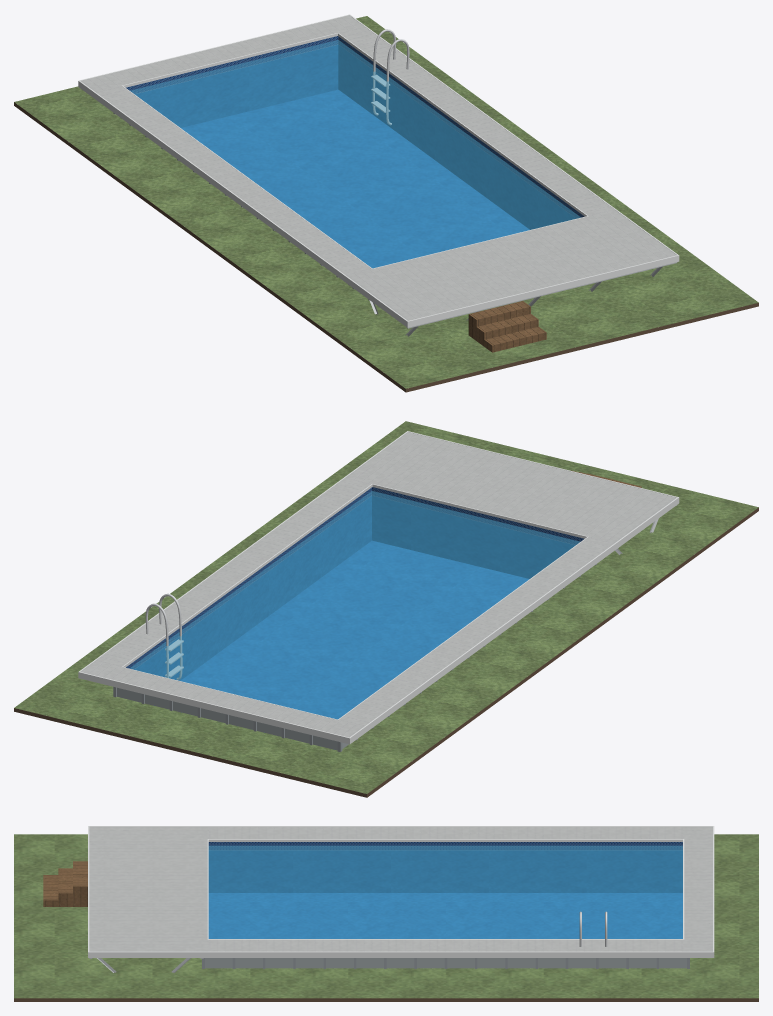
The model's file is kayak-pool-16x32-gray-end-rec-nofence.d09eb5b0a5.glb.
The picture shows the model from 3 angles, top to bottom: view 1: azimuth 30°, elevation 25°; view 2: azimuth 150°, elevation 25°; view 3: azimuth 270°, elevation 25°; orthographic projection. The views are drawn at different scales.
Visible parts, largest first — view 1: water, ground, deck, liner_floor, liner_wall, fascia, soil, steps, steel, stud; view 2: water, ground, deck, liner_floor, liner_wall, fascia, soil, wall, steel; view 3: water, ground, deck, liner_wall, liner_floor, fascia, wall, soil, steps, upright.
Boxes of the visible parts, <box> form: water: <box>130,40,580,268</box>; ground: <box>14,16,758,388</box>; deck: <box>80,15,676,320</box>; liner_floor: <box>181,90,529,268</box>; liner_wall: <box>126,36,584,229</box>; fascia: <box>78,14,679,327</box>; soil: <box>14,102,758,392</box>; steps: <box>468,301,546,352</box>; steel: <box>371,29,409,125</box>; stud: <box>348,262,677,336</box>; water: <box>129,491,579,719</box>; ground: <box>14,421,758,793</box>; deck: <box>80,432,676,737</box>; liner_floor: <box>181,540,529,719</box>; liner_wall: <box>126,487,584,680</box>; fascia: <box>78,431,679,744</box>; soil: <box>14,507,758,797</box>; wall: <box>117,687,348,750</box>; steel: <box>145,593,183,679</box>; water: <box>208,845,682,938</box>; ground: <box>14,834,758,998</box>; deck: <box>89,827,712,951</box>; liner_wall: <box>208,842,682,892</box>; liner_floor: <box>208,893,682,938</box>; fascia: <box>88,826,714,957</box>; wall: <box>205,958,686,968</box>; soil: <box>14,998,758,1001</box>; steps: <box>43,861,87,906</box>; upright: <box>202,958,689,968</box>.
Bounding box in the file's own units: 7.92 × 1.9 × 15.23.
12 materials, 5 textured.
